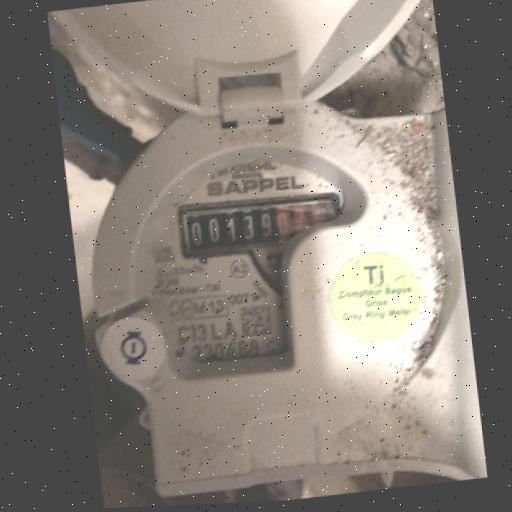0: (275, 204, 295, 238), (187, 215, 206, 250), (205, 214, 223, 247)
1: (223, 211, 241, 246)
3: (241, 210, 257, 245)
7: (293, 202, 311, 235)
9: (258, 209, 276, 242)
border_water_meter_number: (181, 192, 345, 258)
